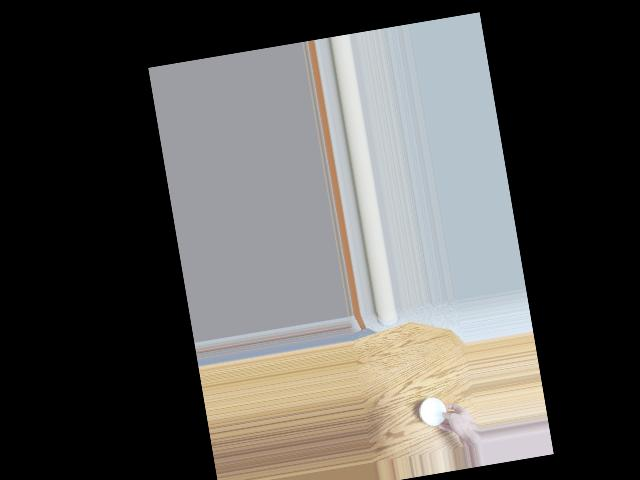cotage: (418, 393, 454, 429)
